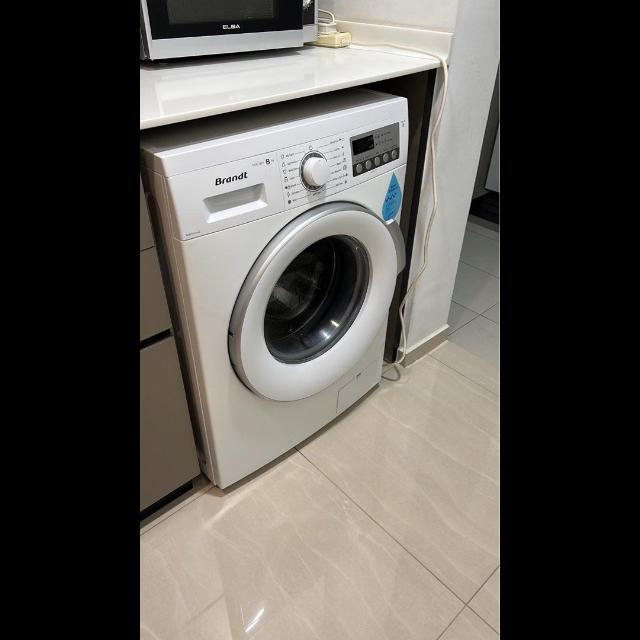Washing-Machine: (156, 98, 404, 456)
